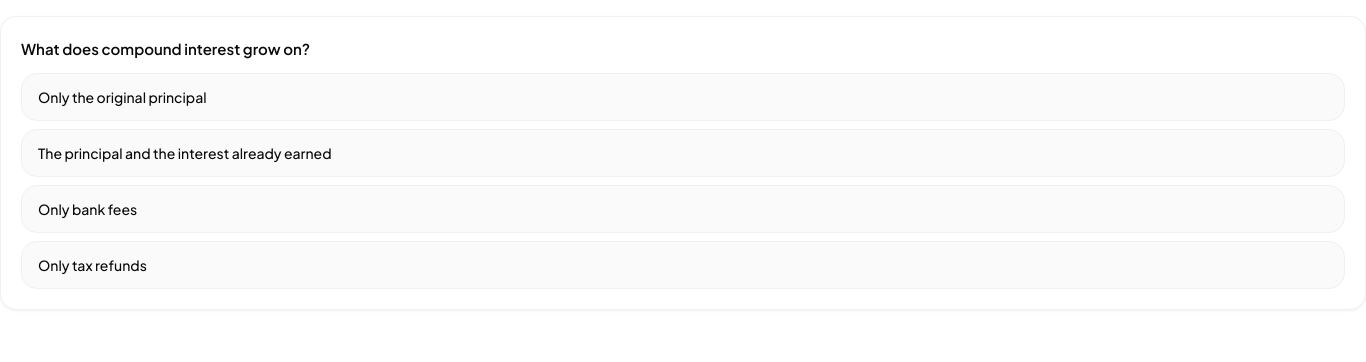
QuizQuestion › shows the explanation and records a correct answer
Click the button "The principal and the interest already earned".
click(185, 153)  # box [21, 129, 1345, 177]
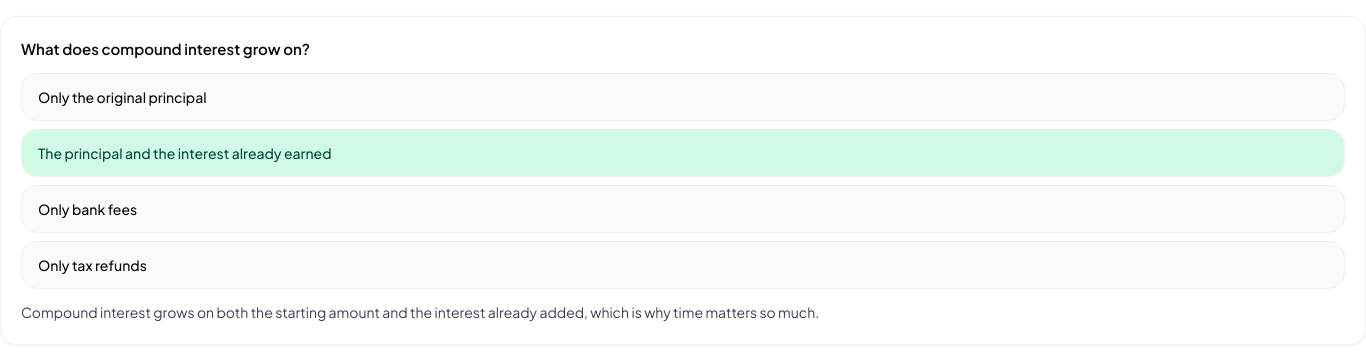
Check: the text "Compound interest grows on both the starting amount and the interest already added, which is why time matters so much." is shown, box [21, 303, 819, 321]
